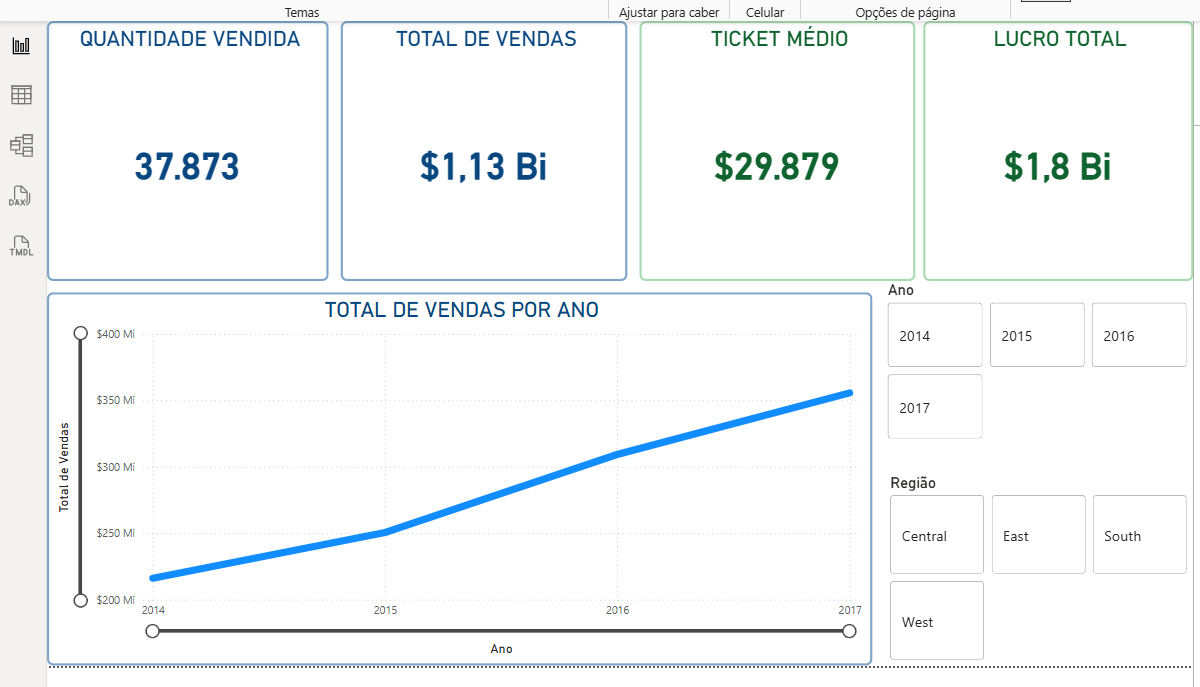

Layout of this report page (visuals, bound fields, positions):
{"tool":"powerbi","page":{"name":"Análise de Vendas - Visão Geral","canvas":[1280,720],"ordinal":0},"visuals":[{"type":"card","title":"TOTAL DE VENDAS","fields":{"Values":["Sample - Superstore.Total de Vendas"]},"box":[328.1,0,320.1,290.5],"z":0},{"type":"card","title":"LUCRO TOTAL","fields":{"Values":["Sample - Superstore.Total Lucro"]},"box":[979,0,301.2,290.5],"z":1000},{"type":"card","title":"QUANTIDADE VENDIDA","fields":{"Values":["Sample - Superstore.Quantidade Vendida"]},"box":[0,0,314.7,290.5],"z":2000},{"type":"card","title":"TICKET MÉDIO","fields":{"Values":["Sample - Superstore.Ticket Médio"]},"box":[661.7,0,308,290.5],"z":3000},{"type":"lineChart","title":"TOTAL DE VENDAS POR ANO","fields":{"Category":["Sample - Superstore.Order Date.Variation.Hierarquia de datas.Ano","Sample - Superstore.Order Date.Variation.Hierarquia de datas.Mês"],"Y":["Sample - Superstore.Total de Vendas"]},"box":[0,302.6,921.2,416.9],"z":4000},{"type":"advancedSlicerVisual","fields":{"Values":["Sample - Superstore.Order Date.Variation.Hierarquia de datas.Ano"]},"box":[933.3,290.5,344.3,181.6],"z":5000},{"type":"advancedSlicerVisual","fields":{"Values":["Sample - Superstore.Region"]},"box":[936,505.7,341.6,213.8],"z":6000}]}

Visuals, with their boxes on the page's 1280x720 design canvas (x1, y1, x2, y2). These are canvas units, not pixel positions in the 1200x687 screenshot, which may show the page scaled, cropped or inside an application window:
"TOTAL DE VENDAS" card: bbox=(328, 0, 648, 290)
"LUCRO TOTAL" card: bbox=(979, 0, 1280, 290)
"QUANTIDADE VENDIDA" card: bbox=(0, 0, 315, 290)
"TICKET MÉDIO" card: bbox=(662, 0, 970, 290)
"TOTAL DE VENDAS POR ANO" lineChart: bbox=(0, 303, 921, 720)
advancedSlicerVisual - Sample - Superstore.Order Date.Variation.Hierarquia de datas.Ano: bbox=(933, 290, 1278, 472)
advancedSlicerVisual - Sample - Superstore.Region: bbox=(936, 506, 1278, 720)
